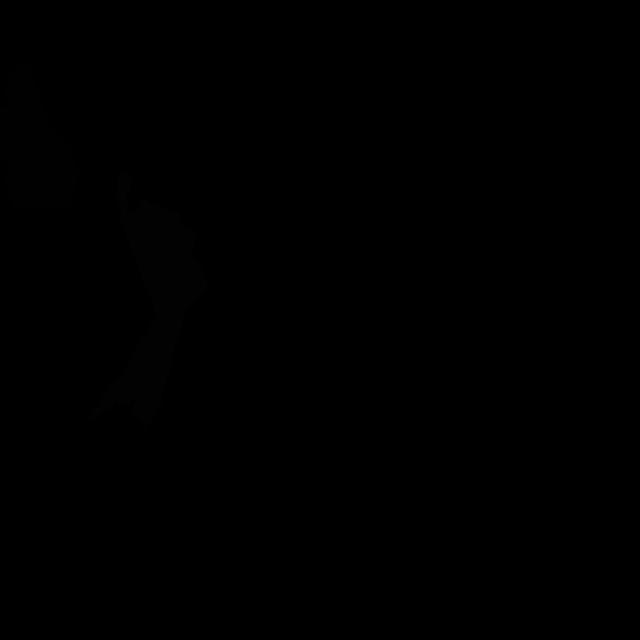cardboard: (88, 172, 207, 430)
rigid_plastic: (0, 62, 79, 209)
